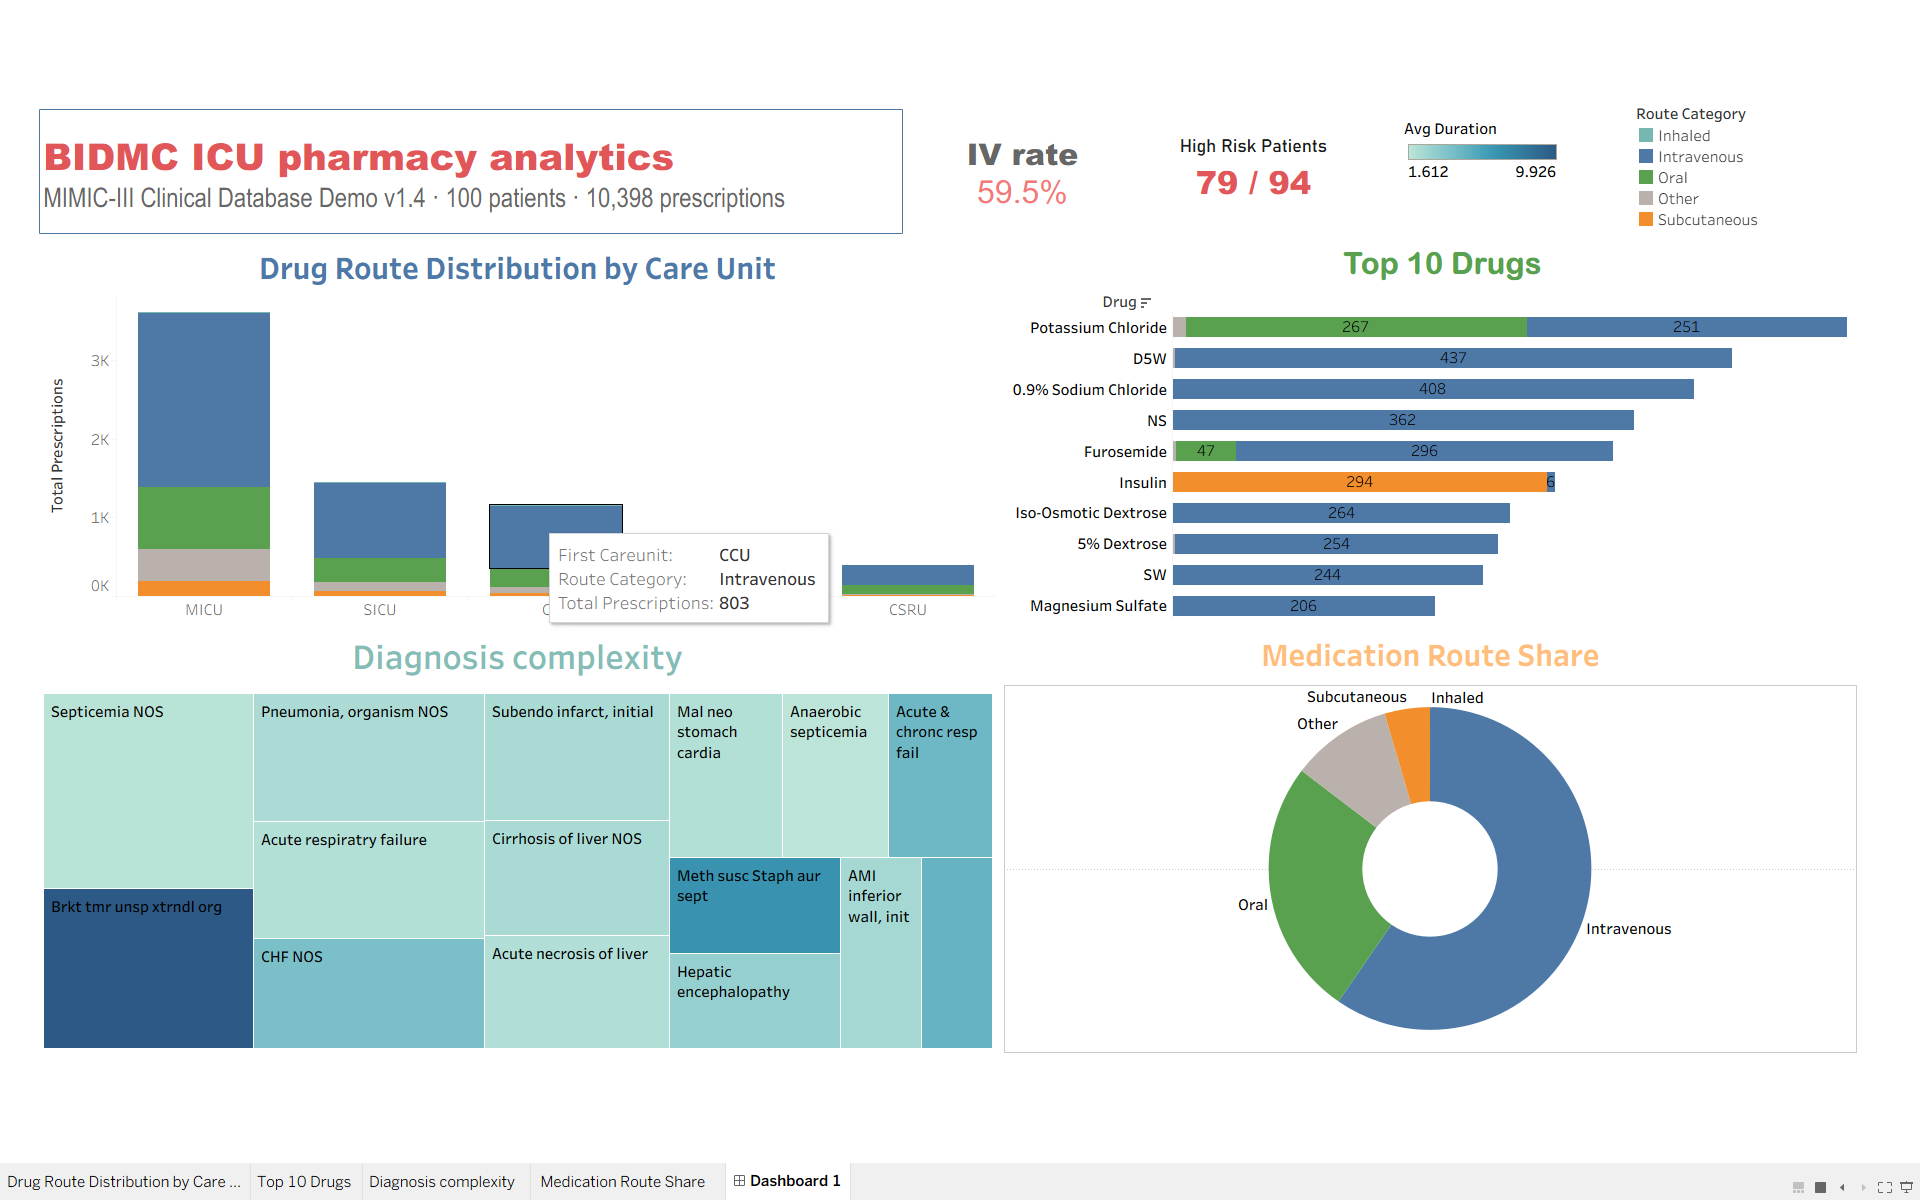

The dashboard page shown, as its layout file describes it:
{"tool":"tableau","page":{"name":"Dashboard 1","canvas":[1866,968],"ordinal":0},"visuals":[{"type":"legend","title":"Drug Route Distribution by Care Unit","param":"[federated.0lkrco81di7t2t1bwneyt050khkj].[none:route_category:nk]","box":[1609,6,157,138]},{"type":"text","box":[8,8,872.3,133]},{"type":"text","box":[880.3,8,231,133]},{"type":"text","box":[1111.3,8,231,133]},{"type":"blank","box":[1342.2,8,515.8,133]},{"type":"legend","title":"Diagnosis complexity","param":"[federated.1utj0tk03mq1331ag661k0zwbwhm].[sum:AvgDuration:qk]","box":[1376.5,21,156.8,88]},{"type":"worksheet","title":"Drug Route Distribution by Care Unit","mark":"Automatic","rows":["TotalPrescriptions"],"cols":["first_careunit"],"box":[8,141,964.7,387]},{"type":"worksheet","title":"Top 10 Drugs","mark":"Automatic","rows":["drug"],"cols":["TotalPrescriptions"],"box":[972.7,141,885.3,387]},{"type":"worksheet","title":"Diagnosis complexity","mark":"Automatic","box":[8,528,965,432]},{"type":"worksheet","title":" Medication Route Share ","mark":"Circle","rows":["Calculation_1286763245101060","Calculation_1286763245101060"],"box":[973,528,885,432]}]}

Visuals, with their boxes on the page's 1866x968 design canvas (x1, y1, x2, y2). These are canvas units, not pixel positions in the 1920x1200 screenshot, which may show the page scaled, cropped or inside an application window:
"Drug Route Distribution by Care Unit" legend: [1609,6,1766,144]
text: [8,8,880,141]
text: [880,8,1111,141]
text: [1111,8,1342,141]
blank: [1342,8,1858,141]
"Diagnosis complexity" legend: [1376,21,1533,109]
"Drug Route Distribution by Care Unit" worksheet: [8,141,973,528]
"Top 10 Drugs" worksheet: [973,141,1858,528]
"Diagnosis complexity" worksheet: [8,528,973,960]
" Medication Route Share " worksheet (Circle marks): [973,528,1858,960]
